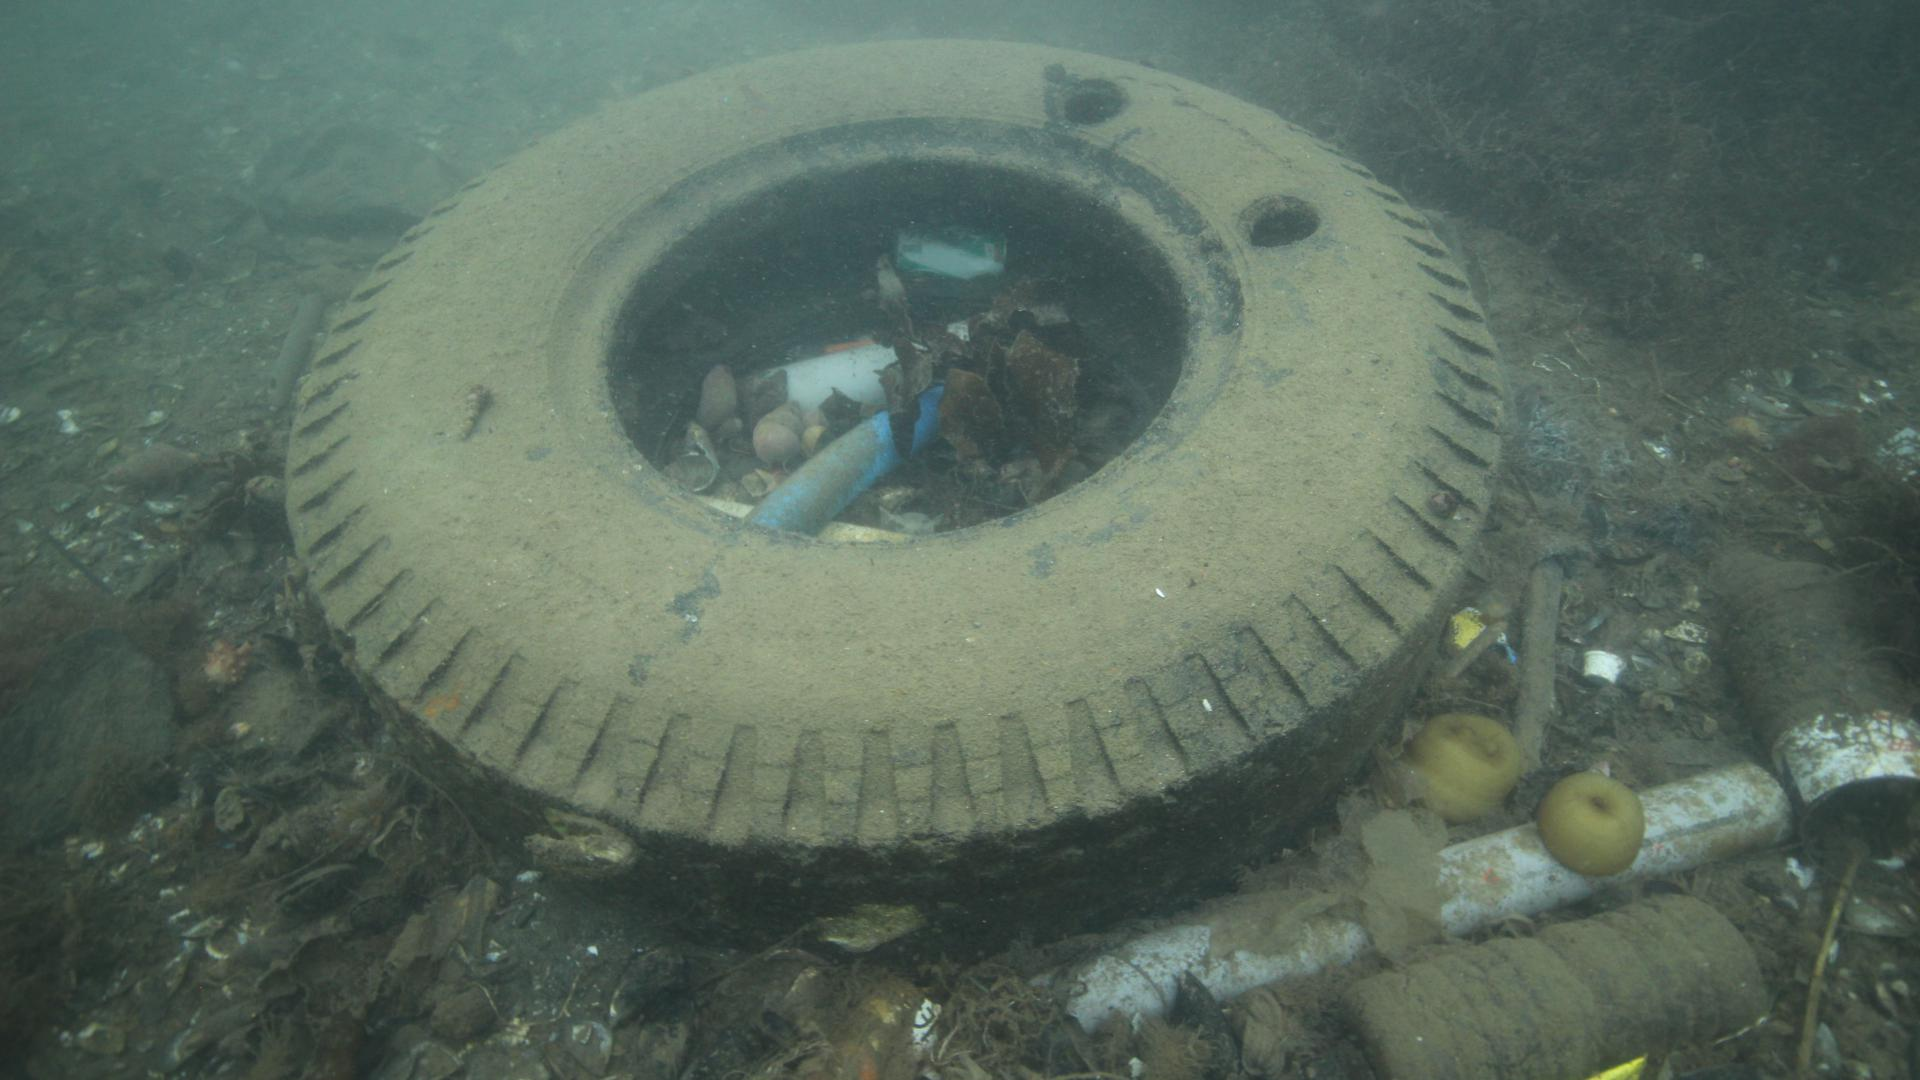tire: (282, 36, 1501, 971)
